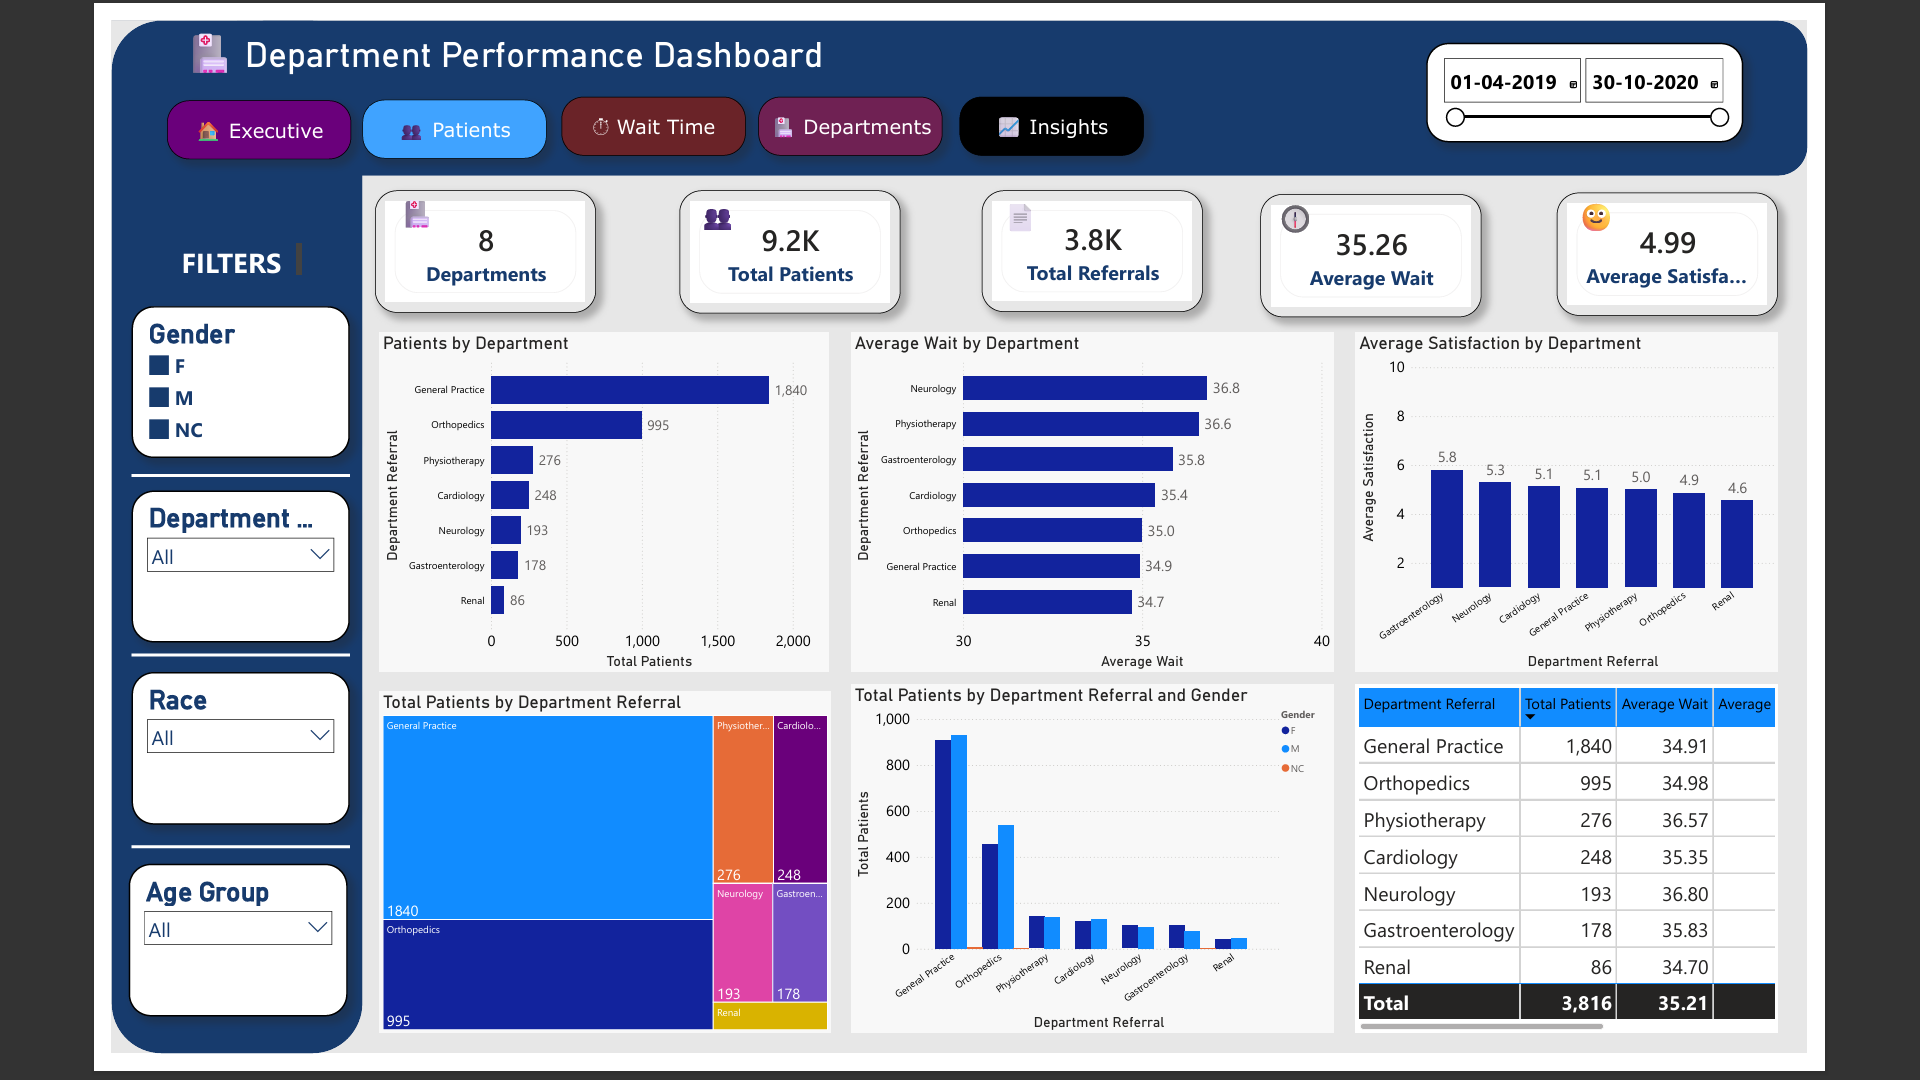

The page's visual inventory and layout, read from the dashboard file:
{"tool":"powerbi","page":{"name":"Department Performance","canvas":[2300,1400],"ordinal":3},"visuals":[{"type":"shape","box":[170,0,2130,210],"z":0},{"type":"treemap","fields":{"Group":["Hospital ER.Department Referral"],"Values":["Hospital ER.Total Patients"]},"box":[363,910,613,463],"z":1000},{"type":"cardVisual","fields":{"Data":["Hospital ER.Departments"]},"box":[356.7,230,300,166.1],"z":2000},{"type":"shape","box":[0,0,340,1400],"z":3000},{"type":"textbox","box":[90,0,1153.3,113.3],"z":4000},{"type":"slicer","fields":{"Values":["Hospital ER.Gender"]},"box":[26.7,386.7,296.7,206.7],"z":5000},{"type":"cardVisual","fields":{"Data":["Hospital ER.Total Referrals"]},"box":[1180,230,300,165],"z":6000},{"type":"cardVisual","fields":{"Data":["Hospital ER.Average Wait"]},"box":[1557.5,235,300,166.7],"z":7000,"group":"g1"},{"type":"slicer","fields":{"Values":["Hospital ER.Department Referral"]},"box":[26.7,636.7,296.7,206.7],"z":7000},{"type":"slicer","fields":{"Values":["Hospital ER.Race"]},"box":[26.7,883.3,296.7,206.7],"z":8000},{"type":"slicer","fields":{"Values":["Hospital ER.Age Group"]},"box":[23.3,1143.3,296.7,206.7],"z":9000},{"type":"shape","box":[26.7,560,296.7,113.3],"z":10000},{"type":"shape","box":[26.7,1063.3,296.7,113.3],"z":11000},{"type":"shape","box":[26.7,803.3,296.7,113.3],"z":12000},{"type":"textbox","box":[90,296.7,173.3,56.7],"z":13000},{"type":"clusteredColumnChart","title":"Average Satisfaction by Department","fields":{"Category":["Hospital ER.Department Referral"],"Y":["Hospital ER.Average Satisfaction"]},"box":[1686.7,423.3,573.3,460],"z":14000},{"type":"textbox","box":[383.3,230,73.3,80],"z":15000},{"type":"barChart","title":"Patients by Department","fields":{"Category":["Hospital ER.Department Referral"],"Y":["Hospital ER.Total Patients"]},"box":[363,423,610,460],"z":16000},{"type":"clusteredBarChart","title":"Average Wait by Department","fields":{"Category":["Hospital ER.Department Referral"],"Y":["Hospital ER.Average Wait"]},"box":[1003.3,423.3,653.3,460],"z":17000},{"type":"textbox","box":[1201.7,218.3,146.7,115],"z":18000},{"type":"slicer","fields":{"Values":["Hospital ER.Date"]},"box":[1782.5,30,430,135],"z":19000},{"type":"textbox","box":[1574.2,236.7,163.3,86.7],"z":19000,"group":"g1"},{"type":"actionButton","box":[340,106.7,250,80],"z":20000},{"type":"actionButton","box":[610,103.3,250,80],"z":21000},{"type":"actionButton","box":[876.7,103.3,250,80],"z":22000},{"type":"actionButton","box":[1150,103.3,250,80],"z":23000},{"type":"actionButton","box":[75,107.5,250,80],"z":24000},{"type":"tableEx","fields":{"Values":["Hospital ER.Department Referral","Hospital ER.Total Patients","Hospital ER.Average Wait","Hospital ER.Average Satisfaction","Hospital ER.Male Patients","Hospital ER.Female Patients"]},"box":[1686.7,900,573.3,473.3],"z":25000},{"type":"clusteredColumnChart","fields":{"Y":["Hospital ER.Total Patients"],"Category":["Hospital ER.Department Referral"],"Series":["Hospital ER.Gender"]},"box":[1003.3,900,653.3,473.3],"z":26000},{"type":"cardVisual","fields":{"Data":["Hospital ER.Average Satisfaction"]},"box":[1960,232.5,300,166.7],"z":27000,"group":"g2"},{"type":"group","id":"g1","title":"Group 2","box":[1557.5,235,300,167.5],"z":27000},{"type":"cardVisual","fields":{"Data":["Hospital ER.Total Patients"]},"box":[770,230,300,166.7],"z":28000,"group":"g3"},{"type":"group","id":"g2","title":"Group 3","box":[1960,232.5,300,167.5],"z":28000},{"type":"group","id":"g3","title":"Group 4","box":[770,230,300,167.5],"z":29000},{"type":"textbox","box":[1983.3,234.2,202.5,80],"z":29000,"group":"g2"},{"type":"textbox","box":[791.7,232.5,220,82.5],"z":30000,"group":"g3"}]}

Visuals, with their boxes on the page's 2300x1400 design canvas (x1, y1, x2, y2). These are canvas units, not pixel positions in the 1920x1080 screenshot, which may show the page scaled, cropped or inside an application window:
shape: (170,0,2300,210)
treemap - Hospital ER.Department Referral x Hospital ER.Total Patients: (363,910,976,1373)
cardVisual - Hospital ER.Departments: (357,230,657,396)
shape: (0,0,340,1400)
textbox: (90,0,1243,113)
slicer - Hospital ER.Gender: (27,387,323,593)
cardVisual - Hospital ER.Total Referrals: (1180,230,1480,395)
cardVisual - Hospital ER.Average Wait: (1558,235,1858,402)
slicer - Hospital ER.Department Referral: (27,637,323,843)
slicer - Hospital ER.Race: (27,883,323,1090)
slicer - Hospital ER.Age Group: (23,1143,320,1350)
shape: (27,560,323,673)
shape: (27,1063,323,1177)
shape: (27,803,323,917)
textbox: (90,297,263,353)
"Average Satisfaction by Department" clusteredColumnChart: (1687,423,2260,883)
textbox: (383,230,457,310)
"Patients by Department" barChart: (363,423,973,883)
"Average Wait by Department" clusteredBarChart: (1003,423,1657,883)
textbox: (1202,218,1348,333)
slicer - Hospital ER.Date: (1782,30,2212,165)
textbox: (1574,237,1738,323)
actionButton: (340,107,590,187)
actionButton: (610,103,860,183)
actionButton: (877,103,1127,183)
actionButton: (1150,103,1400,183)
actionButton: (75,108,325,188)
tableEx - Hospital ER.Department Referral x Hospital ER.Total Patients: (1687,900,2260,1373)
clusteredColumnChart - Hospital ER.Total Patients x Hospital ER.Department Referral: (1003,900,1657,1373)
cardVisual - Hospital ER.Average Satisfaction: (1960,232,2260,399)
"Group 2" group: (1558,235,1858,402)
cardVisual - Hospital ER.Total Patients: (770,230,1070,397)
"Group 3" group: (1960,232,2260,400)
"Group 4" group: (770,230,1070,398)
textbox: (1983,234,2186,314)
textbox: (792,232,1012,315)
